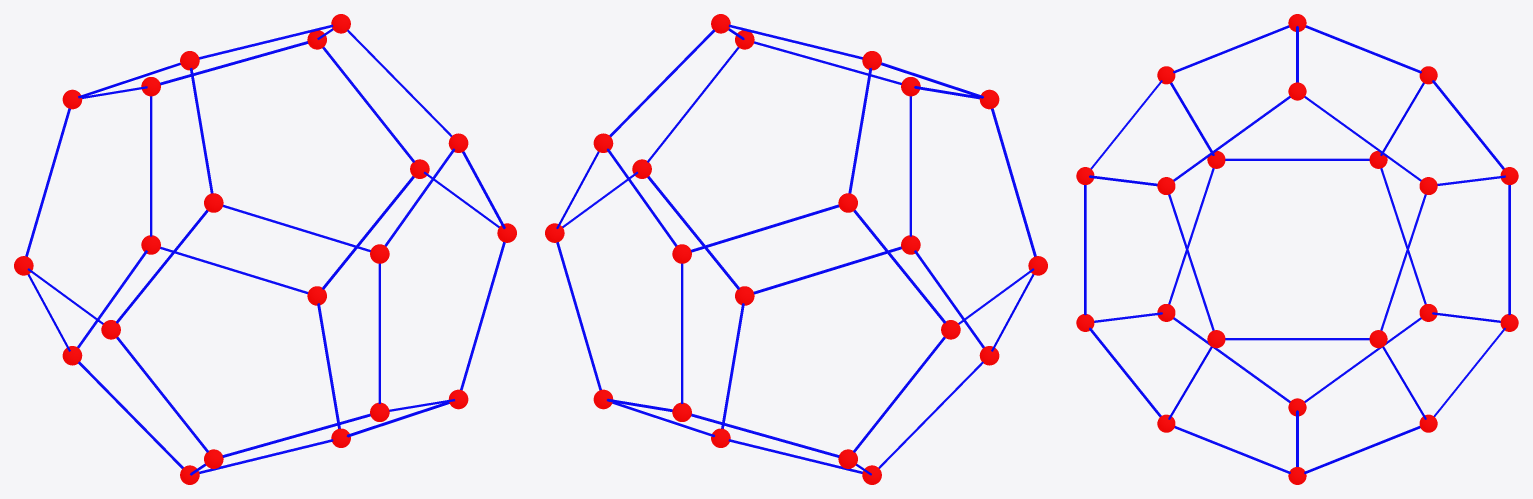
Rendered from Perfect.glb.
3 views of the same model, side by side, from view 1: azimuth 30°, elevation 25°; view 2: azimuth 150°, elevation 25°; view 3: azimuth 270°, elevation 25° (orthographic). The views are drawn at different scales.
Size of the model in its own units: 1.95 by 1.95 by 1.95.
